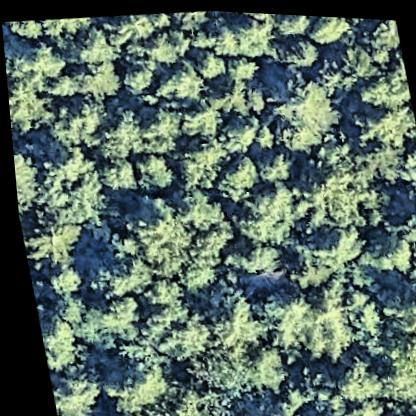tree-top: (247, 268, 356, 358), (117, 276, 215, 371), (287, 136, 373, 226), (261, 61, 341, 155), (119, 190, 199, 277), (360, 269, 416, 392), (27, 140, 105, 226), (72, 229, 152, 309), (219, 176, 298, 248), (184, 7, 281, 59), (178, 332, 248, 399), (68, 283, 141, 347), (100, 349, 167, 415), (81, 104, 149, 169), (195, 283, 259, 351), (16, 209, 81, 271), (175, 190, 232, 260), (2, 33, 74, 85), (141, 377, 235, 416), (204, 148, 262, 206), (42, 95, 102, 150), (346, 99, 416, 146), (5, 68, 52, 137), (31, 304, 79, 371), (301, 212, 364, 263), (236, 334, 290, 392), (321, 349, 378, 403), (145, 56, 204, 107), (357, 224, 413, 275), (351, 130, 408, 180), (208, 104, 262, 155), (136, 101, 187, 155), (61, 17, 119, 64), (352, 14, 403, 66), (42, 367, 96, 416), (68, 56, 121, 105), (229, 234, 286, 277), (10, 146, 46, 212), (201, 70, 252, 116), (103, 10, 154, 56), (143, 23, 194, 68), (275, 27, 327, 71), (90, 151, 137, 197), (128, 148, 177, 192), (248, 145, 300, 186), (349, 63, 393, 109), (117, 50, 158, 98), (331, 37, 380, 77), (301, 12, 354, 45), (38, 261, 80, 300), (191, 44, 230, 81), (326, 390, 380, 416), (269, 11, 318, 39), (1, 17, 47, 44), (224, 51, 263, 79), (410, 383, 416, 415)
